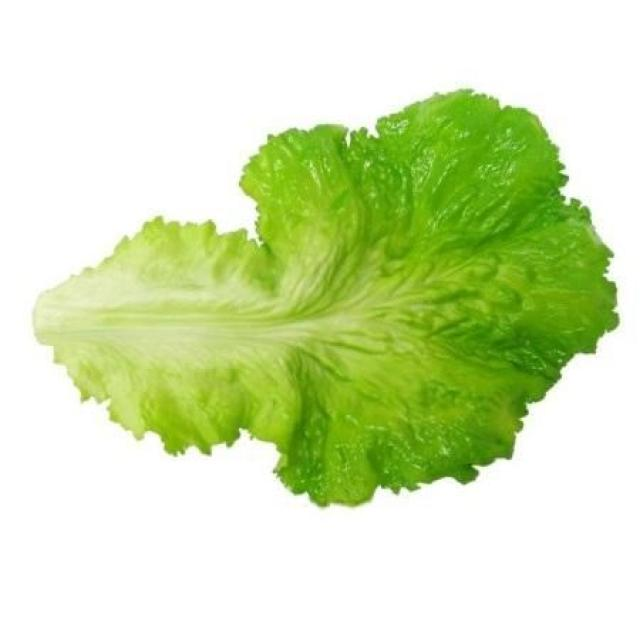lettuce: (35, 93, 617, 504)
